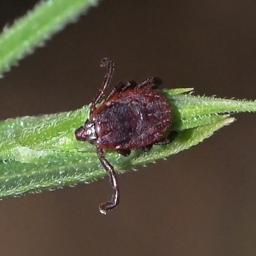Rhipicephalus sanguineus: (75, 56, 173, 214)
